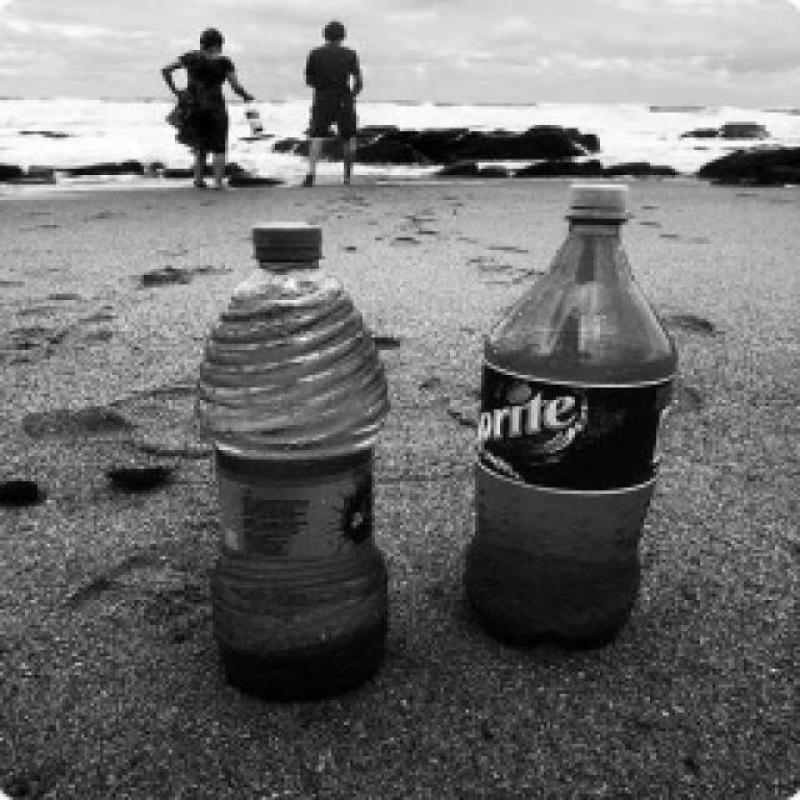botella: (463, 180, 685, 659), (185, 216, 396, 696)
